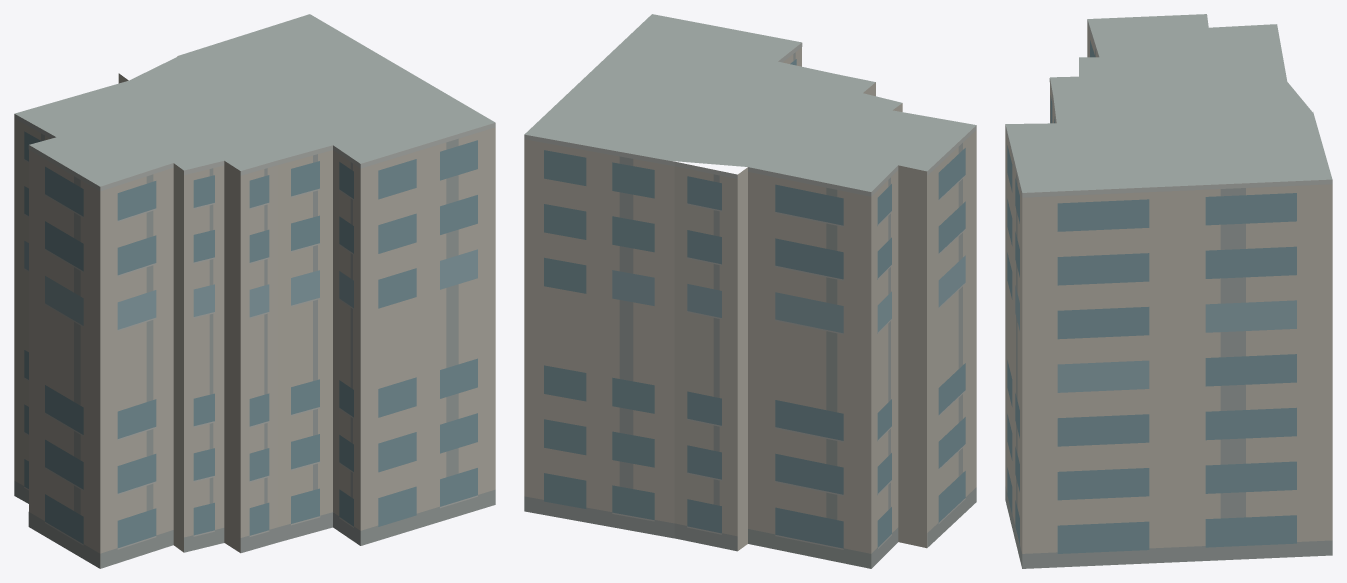
File: survey-upis-32858018.glb
3 views of the same model, side by side, from view 1: azimuth 30°, elevation 25°; view 2: azimuth 150°, elevation 25°; view 3: azimuth 270°, elevation 25° (orthographic).
Parts seen in each view (by area): view 1: survey-upis-32858018.tmp; view 2: survey-upis-32858018.tmp; view 3: survey-upis-32858018.tmp.
Part boxes in pixels (x1,y1,x2,y2): survey-upis-32858018.tmp: (14, 14, 495, 568); survey-upis-32858018.tmp: (524, 14, 976, 568); survey-upis-32858018.tmp: (1005, 14, 1332, 568).
Size of the model in its own units: 20.13 by 19.7 by 15.55.
